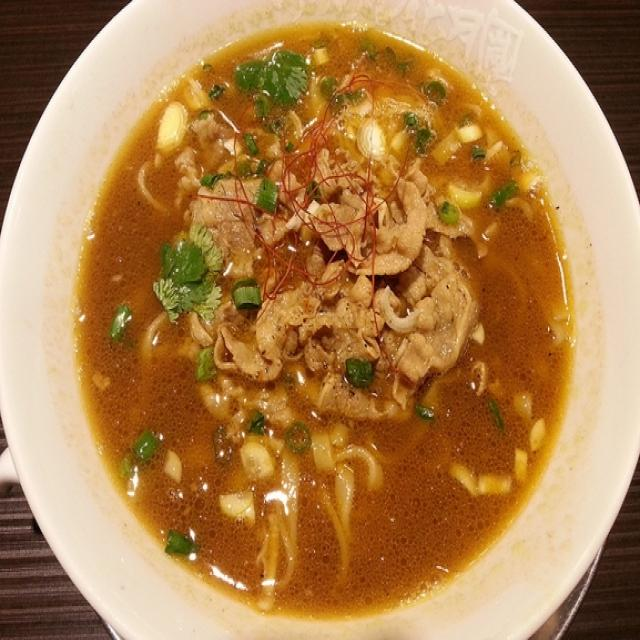面条主食: (50, 21, 589, 610)
